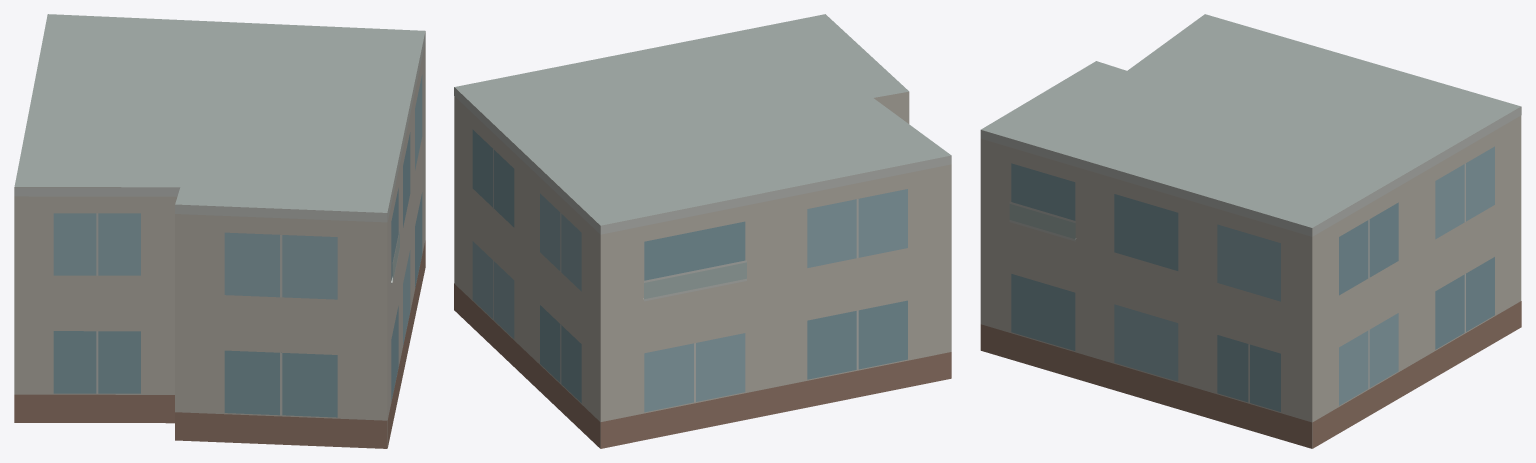
Rendered from survey-upis-32742621.glb.
The picture shows the model from 3 angles, left to right: view 1: azimuth 30°, elevation 25°; view 2: azimuth 150°, elevation 25°; view 3: azimuth 270°, elevation 25°; orthographic projection. The views are drawn at different scales.
Parts seen in each view (by area): view 1: survey-upis-32742621.tmp; view 2: survey-upis-32742621.tmp; view 3: survey-upis-32742621.tmp.
Part boxes in pixels (x1=…): survey-upis-32742621.tmp: x1=14, y1=14, x2=425, y2=448; survey-upis-32742621.tmp: x1=454, y1=14, x2=951, y2=448; survey-upis-32742621.tmp: x1=980, y1=14, x2=1521, y2=448.
Bounding box in the file's own units: 12.69 × 6.1 × 13.55.
